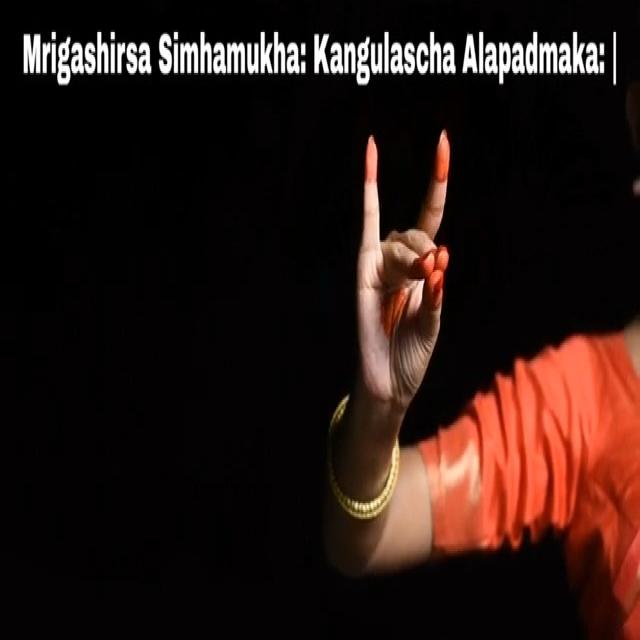Simhamukha: (337, 105, 471, 412)
bangle: (308, 407, 412, 527)
text: (13, 26, 621, 92)
